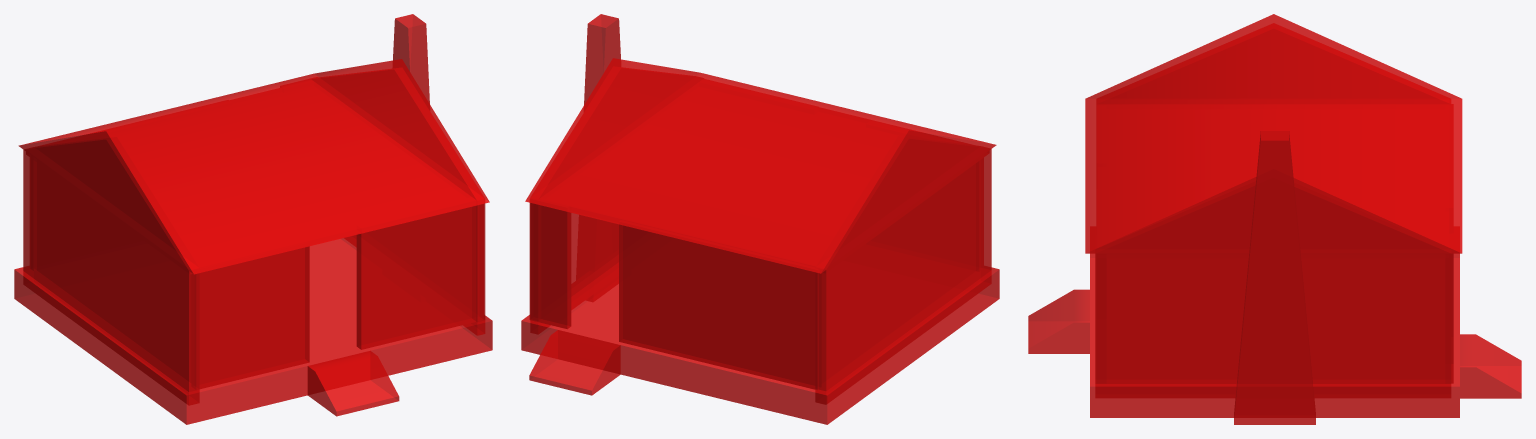
File: SM_Bld_TownHouse_06_Collision.fbx
The picture shows the model from 3 angles, left to right: view 1: azimuth 30°, elevation 25°; view 2: azimuth 150°, elevation 25°; view 3: azimuth 270°, elevation 25°; orthographic projection. The views are drawn at different scales.
Visible parts, largest first — view 1: SM_Bld_TownHouse_06_Collision; view 2: SM_Bld_TownHouse_06_Collision; view 3: SM_Bld_TownHouse_06_Collision.
Boxes of the visible parts, bbox=[...] form: SM_Bld_TownHouse_06_Collision: bbox=[14, 14, 492, 424]; SM_Bld_TownHouse_06_Collision: bbox=[521, 14, 999, 424]; SM_Bld_TownHouse_06_Collision: bbox=[1028, 14, 1521, 424].
Size of the model in its own units: 838 by 665 by 1045.
